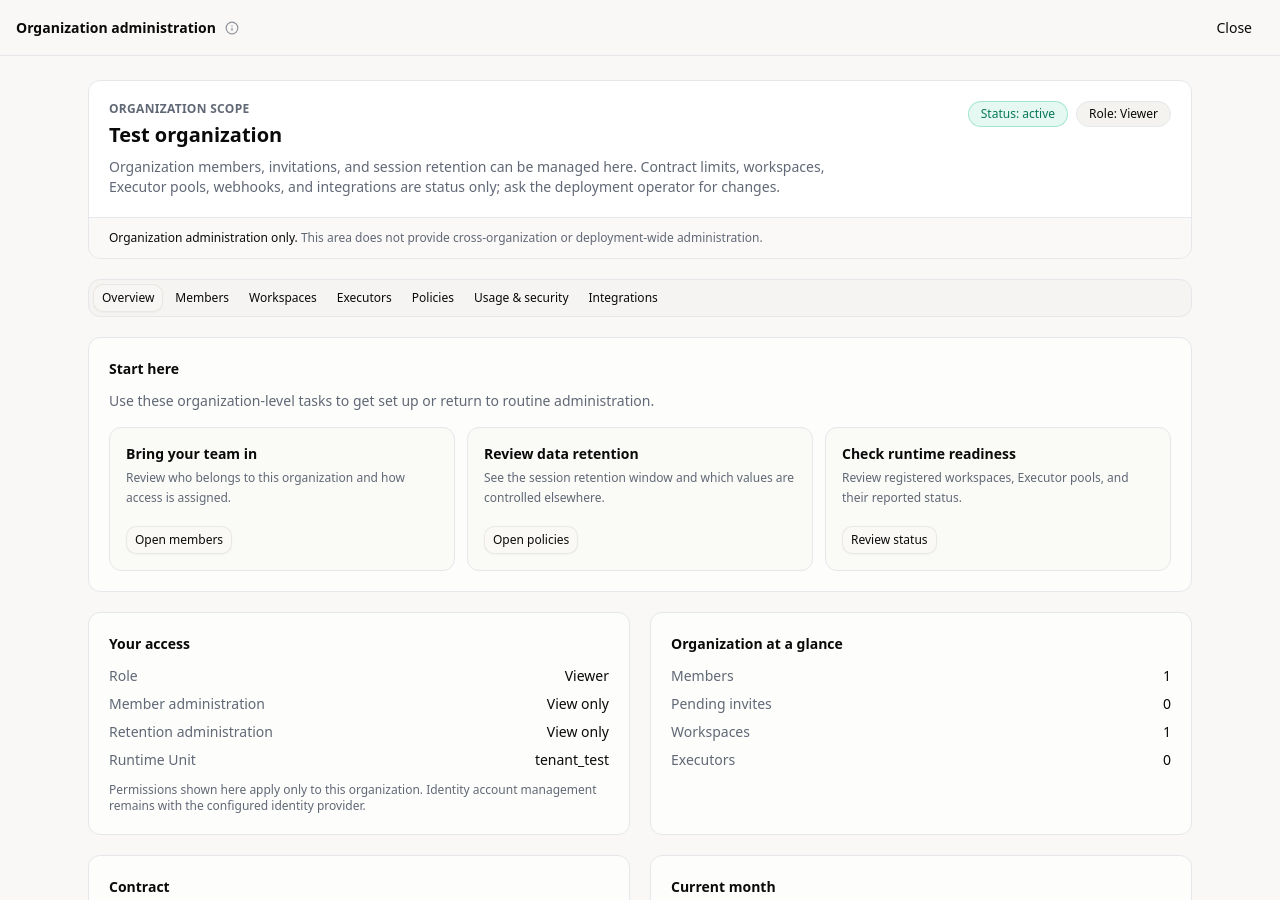
Test case: shows view-only boundaries without exposing organization mutations
Expected: the heading "Test organization" is shown, [109, 121, 282, 148]
Expected: the text "View only" is shown 2 times, [547, 694, 609, 714]; [547, 722, 609, 742]
Step 1. Click the button "Members" → click(202, 298), box [167, 284, 237, 312]
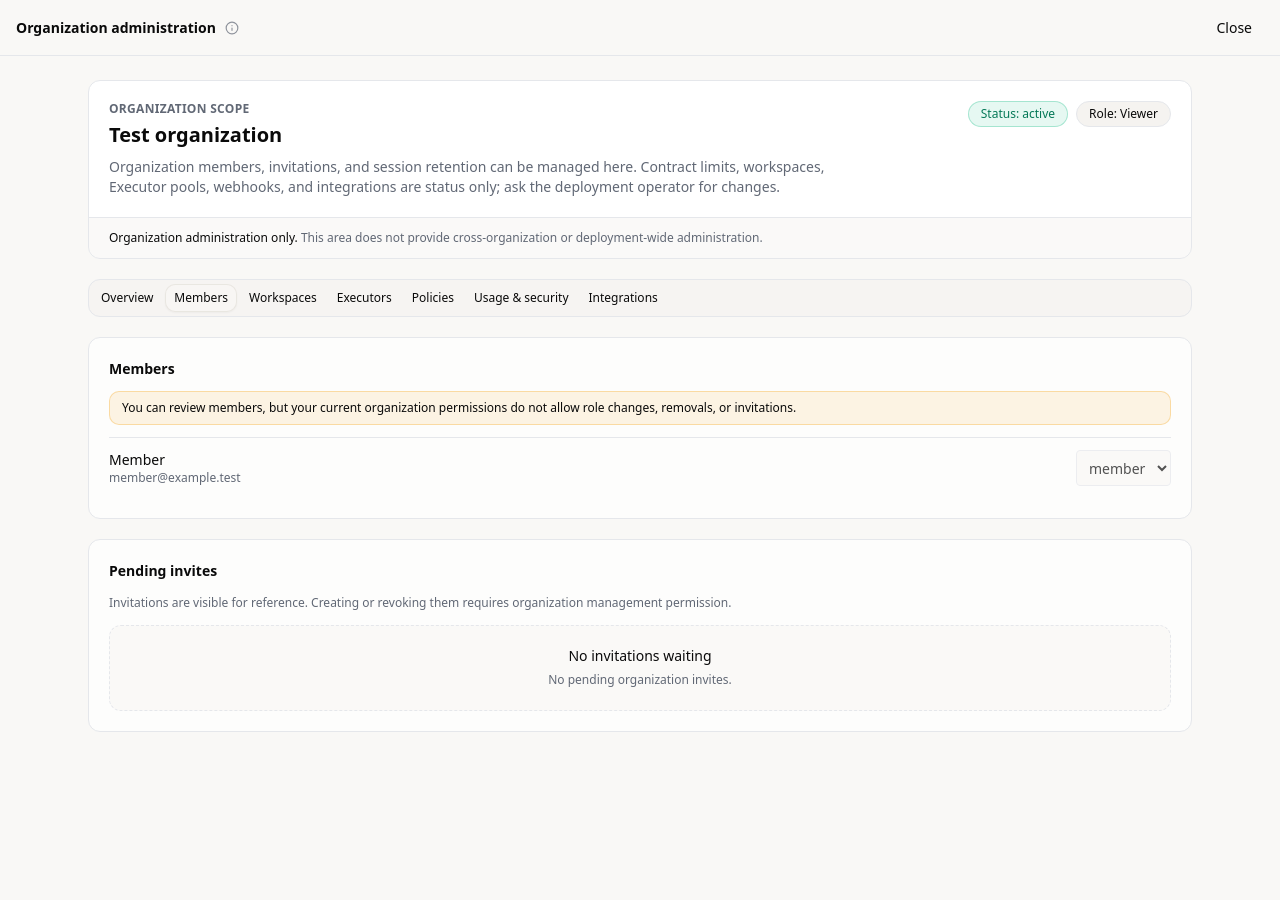
Result: the text "You can review members, but your current organization permissions do not allow role changes, removals, or invitations." is shown at [122, 399, 796, 416]
Result: the dropdown named "Member role" is disabled at [1076, 450, 1171, 486]
Step 2. Click the button "Policies" → click(433, 298), box [404, 284, 462, 312]
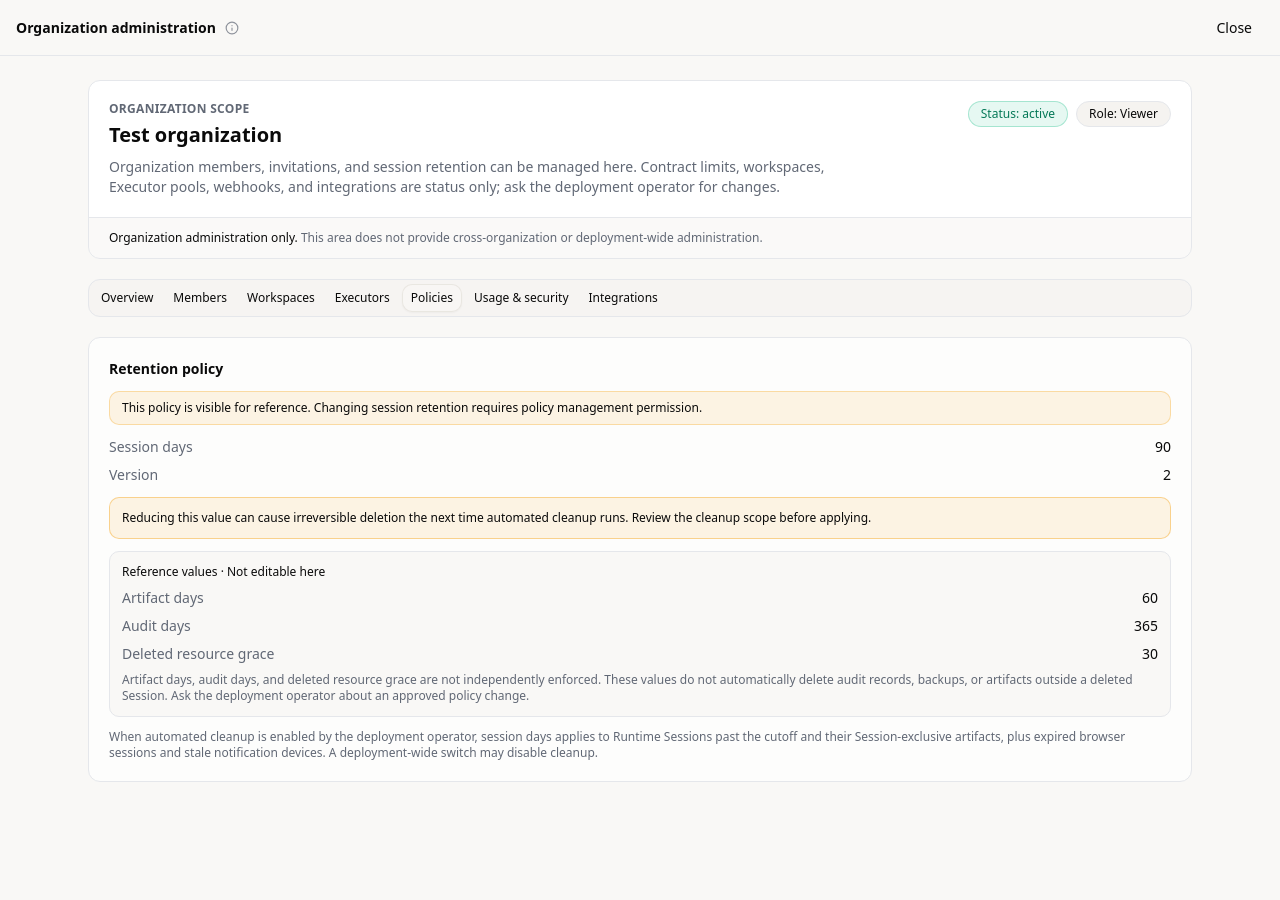
Result: the text "This policy is visible for reference. Changing session retention requires policy management permission." is shown at [122, 399, 702, 416]
